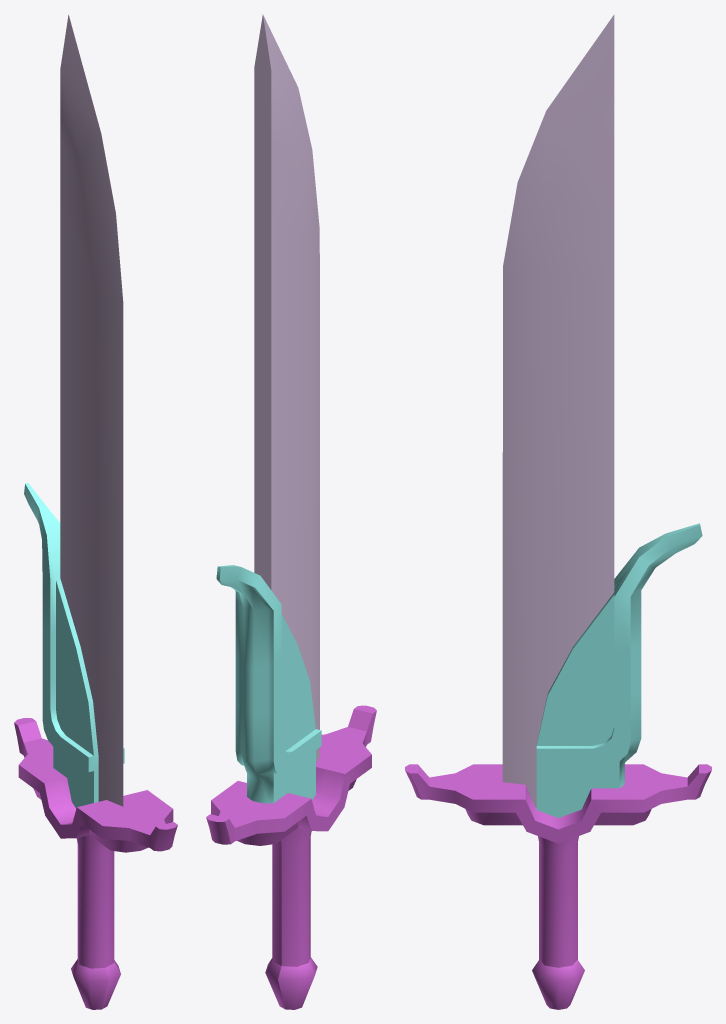
3 views of the same model, side by side, from view 1: azimuth 30°, elevation 25°; view 2: azimuth 150°, elevation 25°; view 3: azimuth 270°, elevation 25° (orthographic). The views are drawn at different scales.
Visible parts, largest first — view 1: Sword_lambert1_0.009, split_parent_1, Sword_lambert1_0; view 2: Sword_lambert1_0.009, split_parent_1, Sword_lambert1_0; view 3: Sword_lambert1_0.009, Sword_lambert1_0, split_parent_1.
Part boxes in pixels (x1,y1,x2,y2): Sword_lambert1_0.009: [60, 15, 123, 806]; split_parent_1: [14, 718, 177, 1009]; Sword_lambert1_0: [24, 483, 124, 808]; Sword_lambert1_0.009: [254, 14, 319, 762]; split_parent_1: [206, 705, 376, 1009]; Sword_lambert1_0: [216, 565, 321, 803]; Sword_lambert1_0.009: [502, 14, 614, 807]; Sword_lambert1_0: [536, 523, 702, 817]; split_parent_1: [405, 764, 711, 1009].
Size of the model in its own units: 0.0761 by 1 by 0.2805.
